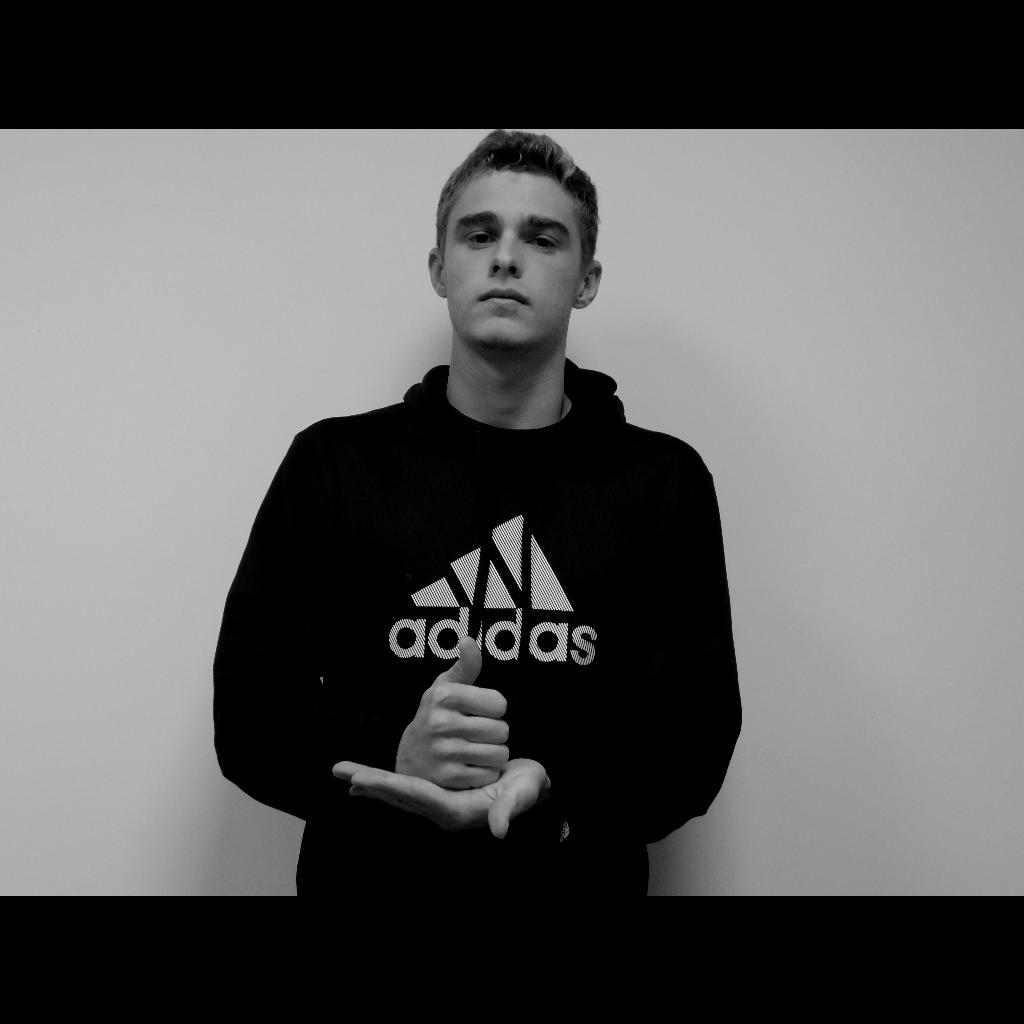help: (333, 635, 547, 839)
